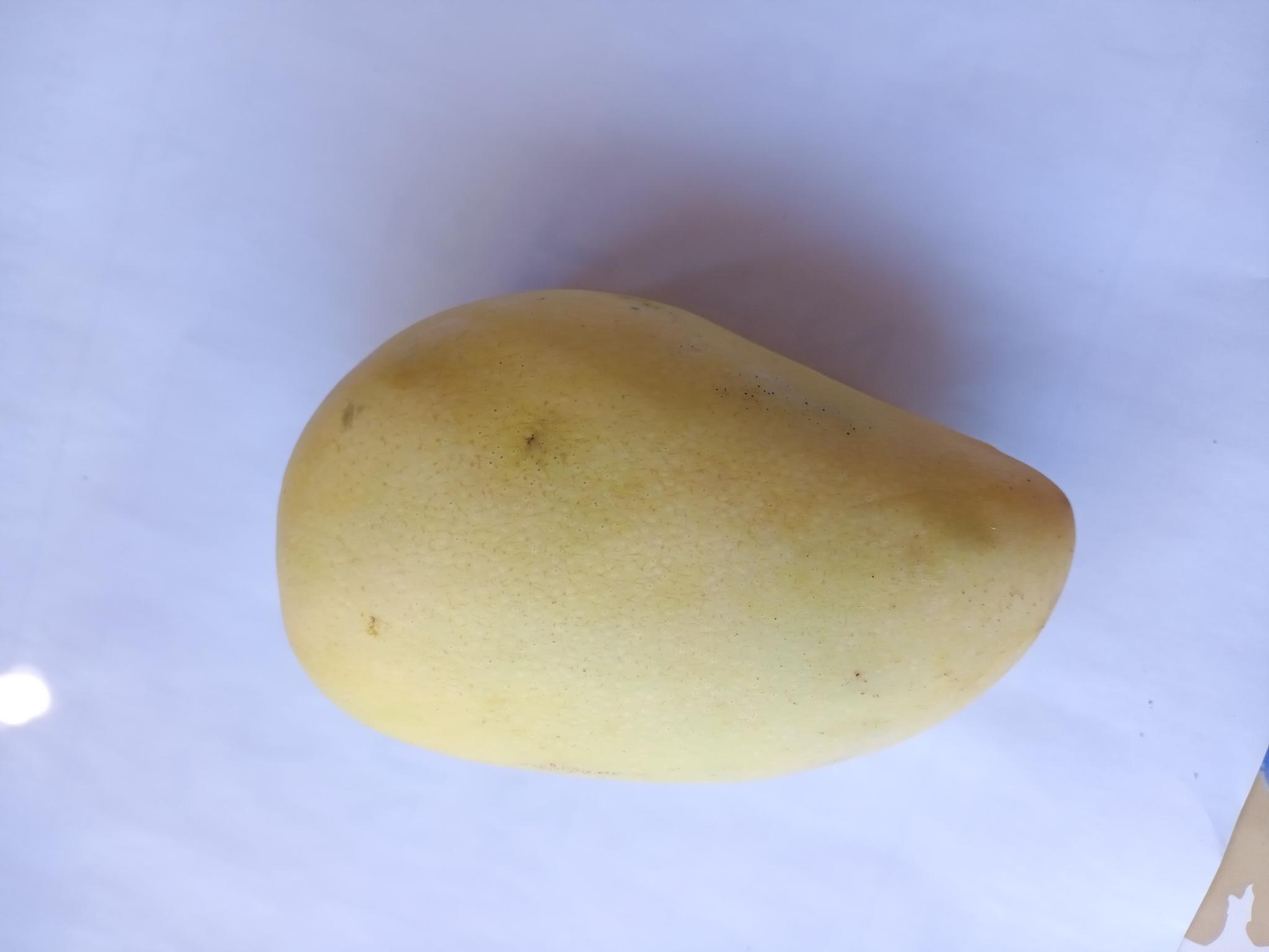Mango Ripe: (229, 295, 1121, 799)
